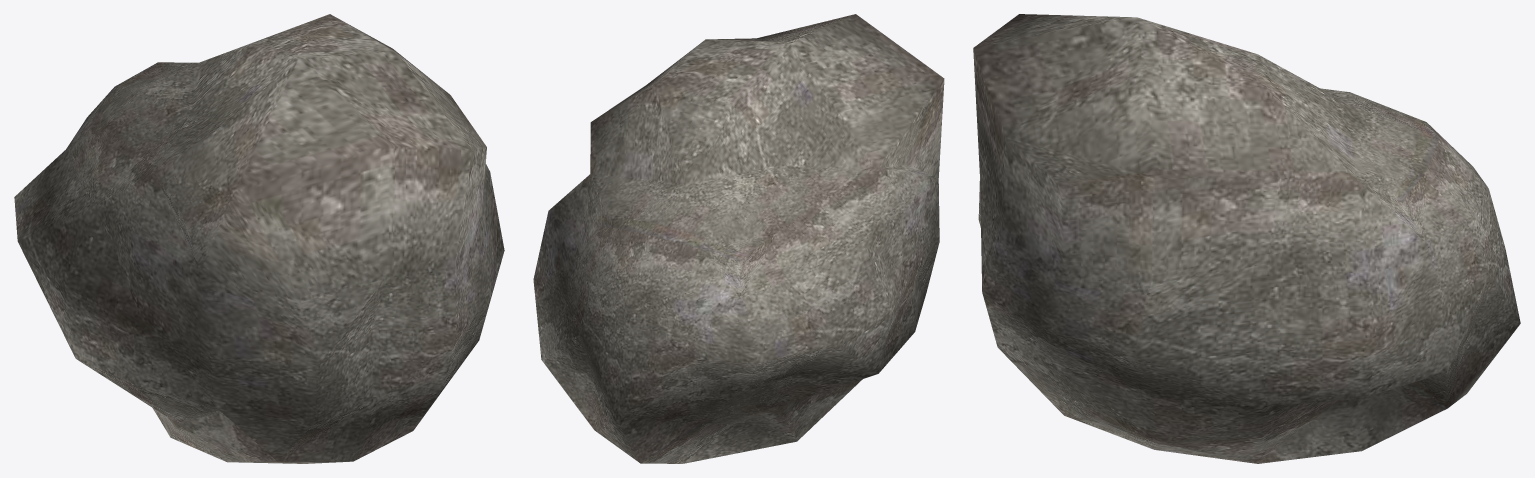
The model's file is stone_07.fbx.
The picture shows the model from 3 angles, left to right: view 1: azimuth 30°, elevation 25°; view 2: azimuth 150°, elevation 25°; view 3: azimuth 270°, elevation 25°; orthographic projection. The views are drawn at different scales.
Parts seen in each view (by area): view 1: pCube5; view 2: pCube5; view 3: pCube5.
Part boxes in pixels (box(x1,y1,x2,y2)): pCube5: box(14, 14, 504, 463); pCube5: box(533, 14, 944, 463); pCube5: box(973, 14, 1520, 463).
Size of the model in its own units: 1.58 by 1.67 by 1.99.
